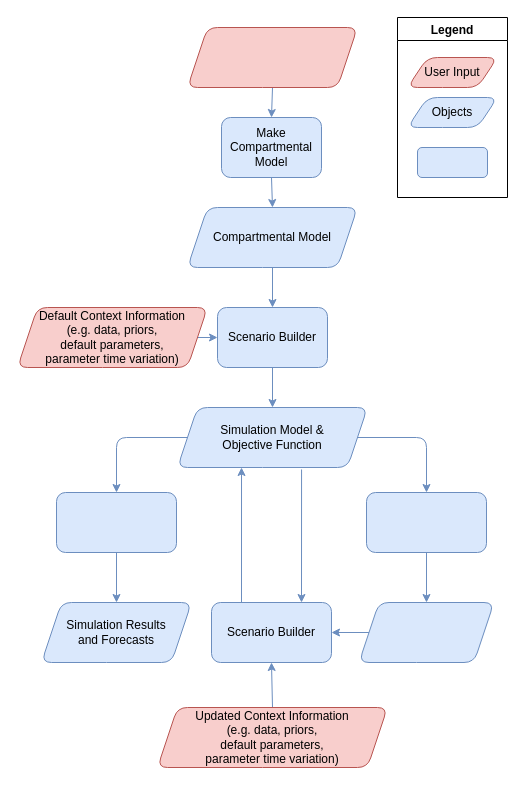
Some shapes in this 525 by 785 pixel diagram are drawn without their labels. The centre of each missing label's shape, as x and y in pixels:
"Calibrate" goes at point (426, 522).
"Calibrated Simulation Model" goes at point (426, 632).
"Functions" goes at point (452, 162).
"Model Structure Information (e.g. compartment topology, flow rates)" goes at point (272, 57).
"Simulate/Forecast" goes at point (116, 522).
